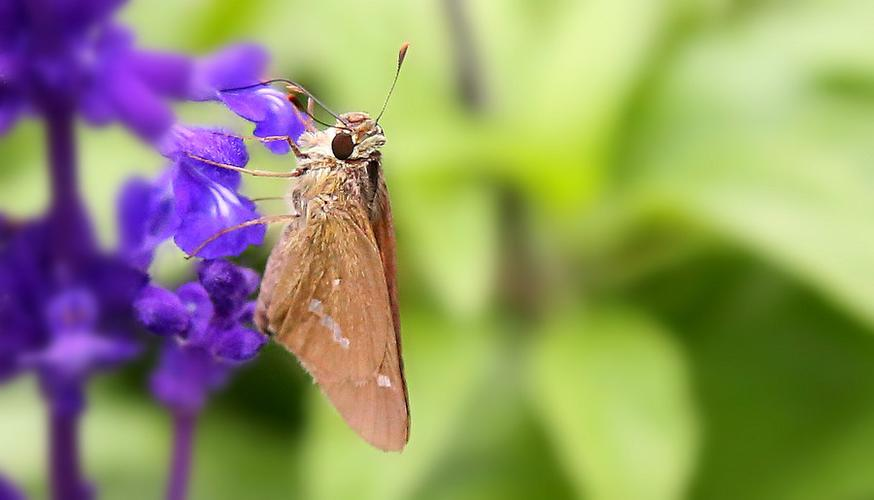Hesperiidae: (183, 37, 422, 449)
